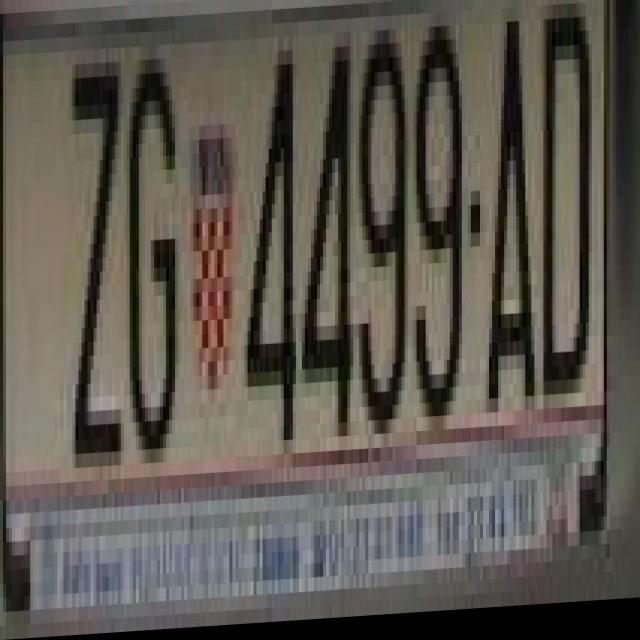4: (247, 54, 299, 419), (308, 23, 353, 415)
9: (359, 20, 402, 413), (413, 32, 456, 395)
A: (488, 28, 538, 391)
D: (540, 11, 589, 403)
G: (130, 60, 182, 481)
Z: (78, 77, 121, 469)
